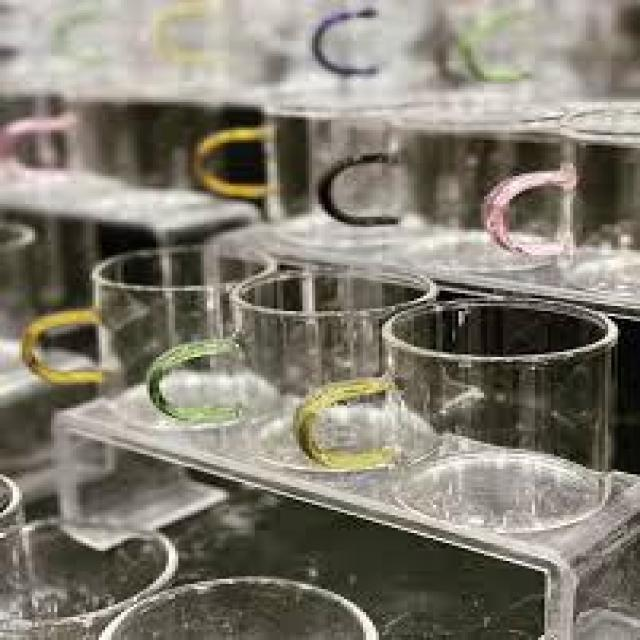glass: (296, 298, 618, 533)
